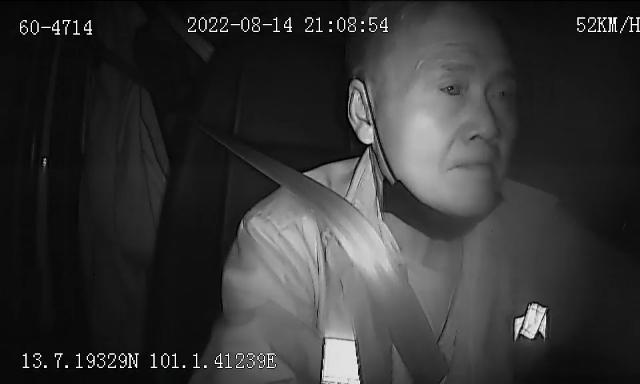SafeDriving: (432, 68, 472, 106), (484, 75, 518, 111)
Seatbelt: (235, 144, 451, 384)
